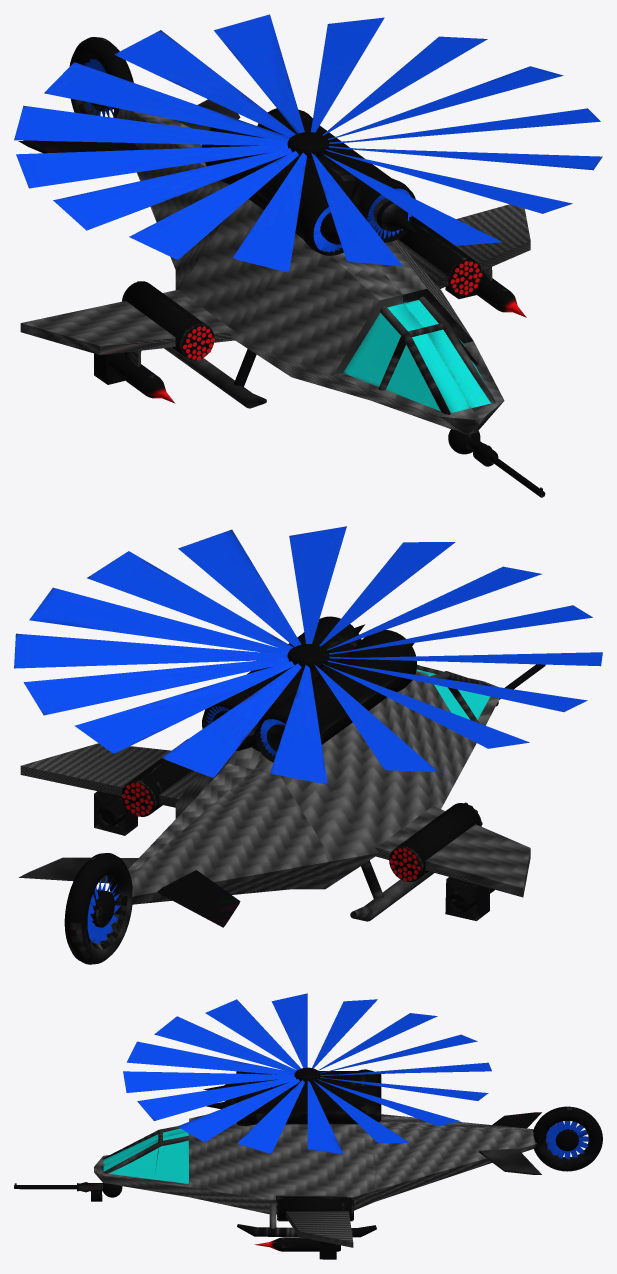
The model's file is hovercopter.gltf.
The picture shows the model from 3 angles, top to bottom: view 1: azimuth 30°, elevation 25°; view 2: azimuth 150°, elevation 25°; view 3: azimuth 270°, elevation 25°; orthographic projection. The views are drawn at different scales.
Visible parts, largest first — view 1: Cube, Plane.001, Plane; view 2: Cube, Plane.001, Plane; view 3: Cube, Plane.001, Plane.
Part boxes in pixels (x1,y1,x2,y2): Cube: [14, 14, 602, 497]; Plane.001: [20, 204, 530, 403]; Plane: [18, 99, 240, 153]; Cube: [14, 526, 602, 964]; Plane.001: [20, 739, 530, 920]; Plane: [19, 857, 240, 927]; Cube: [14, 993, 602, 1237]; Plane.001: [254, 1195, 353, 1259]; Plane: [479, 1112, 541, 1174].
Bounding box in the file's own units: 14.92 × 6.03 × 23.8.
Materials: 1 (1 with a texture image).
